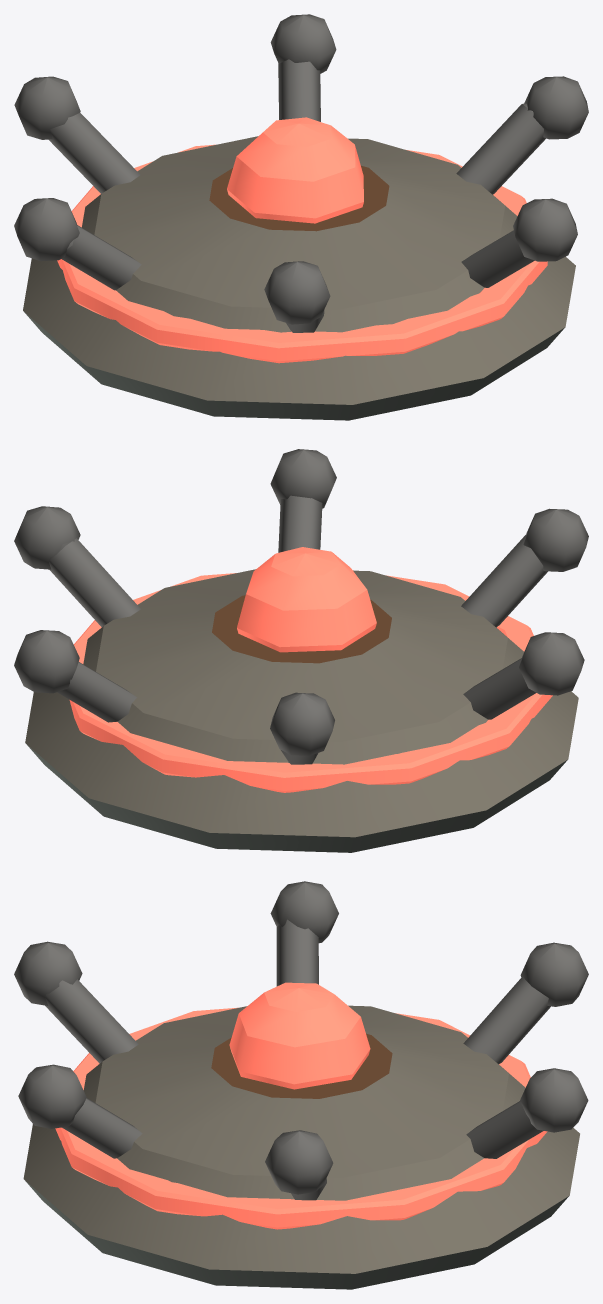
The model's file is R4D_ExplosiveTrap.fbx.
3 views of the same model, one above another, from view 1: azimuth 30°, elevation 25°; view 2: azimuth 150°, elevation 25°; view 3: azimuth 270°, elevation 25° (orthographic).
Visible parts, largest first — view 1: R4D_ExplosiveTrap_Body, R4D_ExplosiveTrap_Lamp; view 2: R4D_ExplosiveTrap_Body, R4D_ExplosiveTrap_Lamp; view 3: R4D_ExplosiveTrap_Body, R4D_ExplosiveTrap_Lamp.
Boxes of the visible parts, x1,y1,x2,y2 form: R4D_ExplosiveTrap_Body: [14, 14, 588, 420]; R4D_ExplosiveTrap_Lamp: [227, 117, 363, 223]; R4D_ExplosiveTrap_Body: [14, 449, 588, 852]; R4D_ExplosiveTrap_Lamp: [237, 547, 376, 652]; R4D_ExplosiveTrap_Body: [14, 881, 588, 1289]; R4D_ExplosiveTrap_Lamp: [229, 982, 370, 1089].
Size of the model in its own units: 0.4987 by 0.16 by 0.4361.
